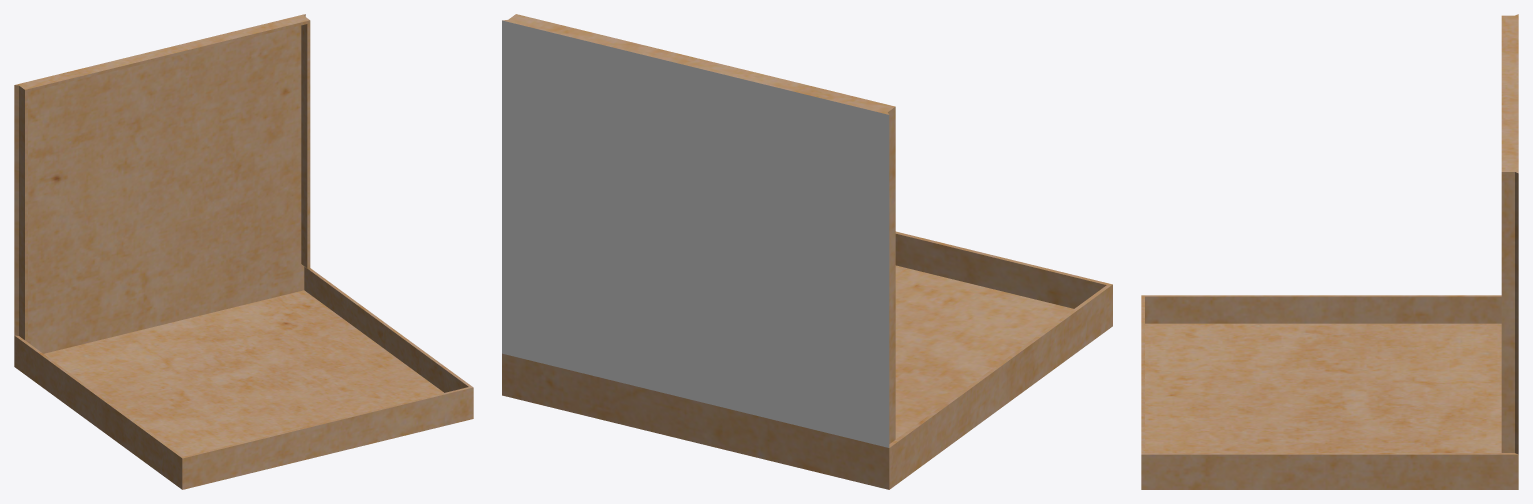
File: pizza_box.fbx
3 renders of one model, left to right at view 1: azimuth 30°, elevation 25°; view 2: azimuth 150°, elevation 25°; view 3: azimuth 270°, elevation 25°, orthographic. The views are drawn at different scales.
Visible parts, largest first — view 1: Plane; view 2: Plane; view 3: Plane.
Boxes of the visible parts, left/top/right/bottom form: Plane: left=14, top=14, right=473, bottom=489; Plane: left=502, top=14, right=1112, bottom=489; Plane: left=1141, top=14, right=1518, bottom=489.
Bounding box in the file's own units: 200 × 185 × 200.
Materials: 2 (1 with a texture image).
